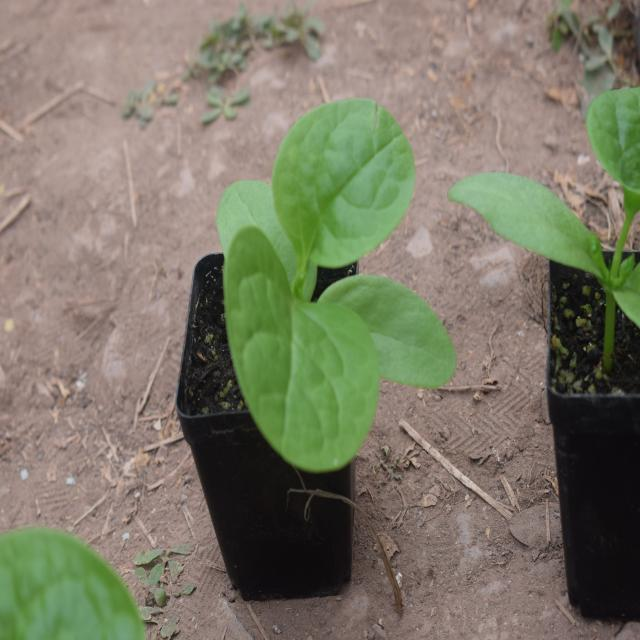Ceylon spinach: (202, 80, 464, 492)
